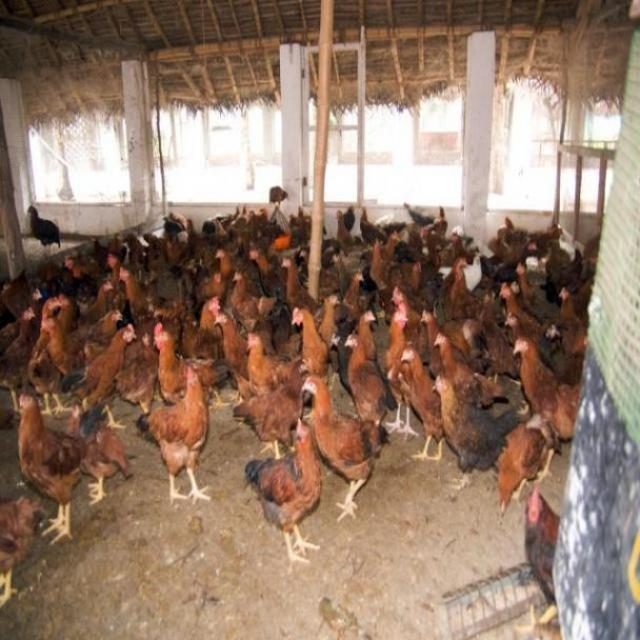Chicken: (16, 393, 115, 557), (237, 410, 321, 577), (137, 338, 216, 507), (64, 395, 136, 512), (512, 481, 561, 640), (1, 497, 48, 615), (22, 198, 62, 257), (267, 182, 289, 212)
